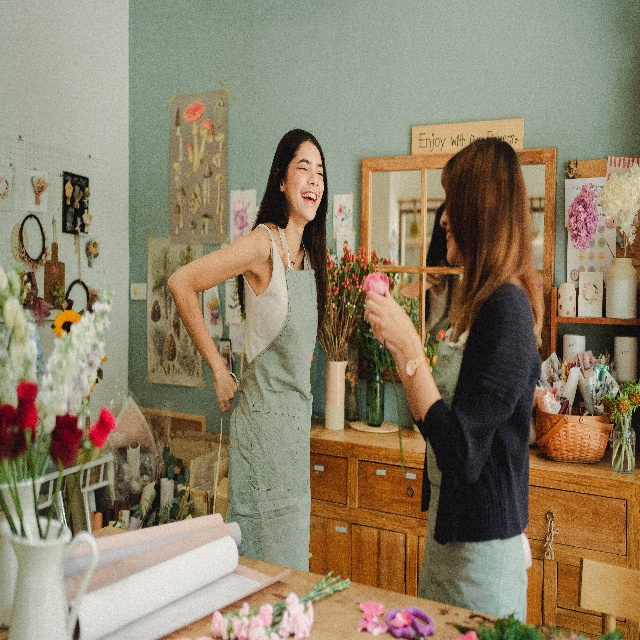Sin_guantes: (366, 290, 415, 352), (212, 366, 236, 412)
